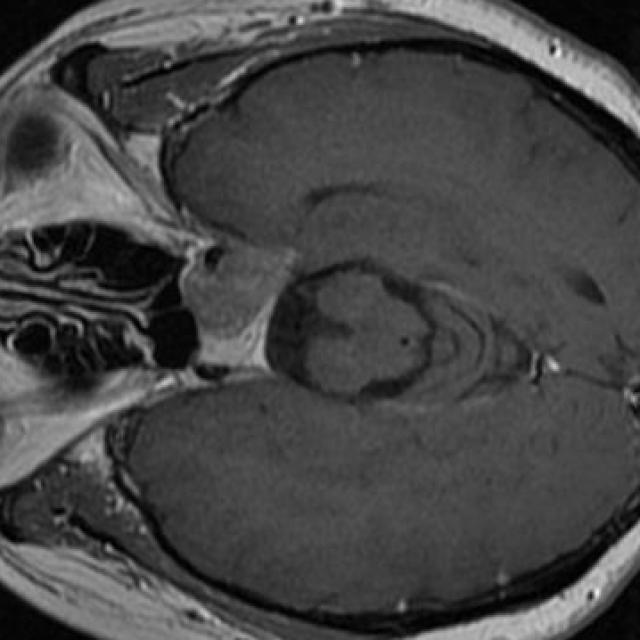pituitary: (178, 250, 292, 365)
